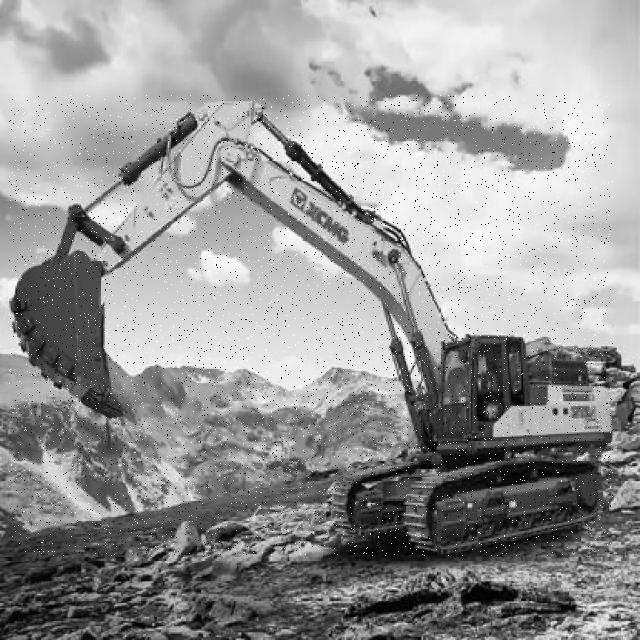Construction Equipment: (9, 95, 613, 556)
